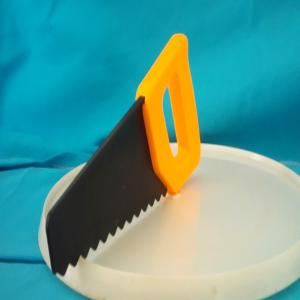serrote: (46, 32, 202, 278)
